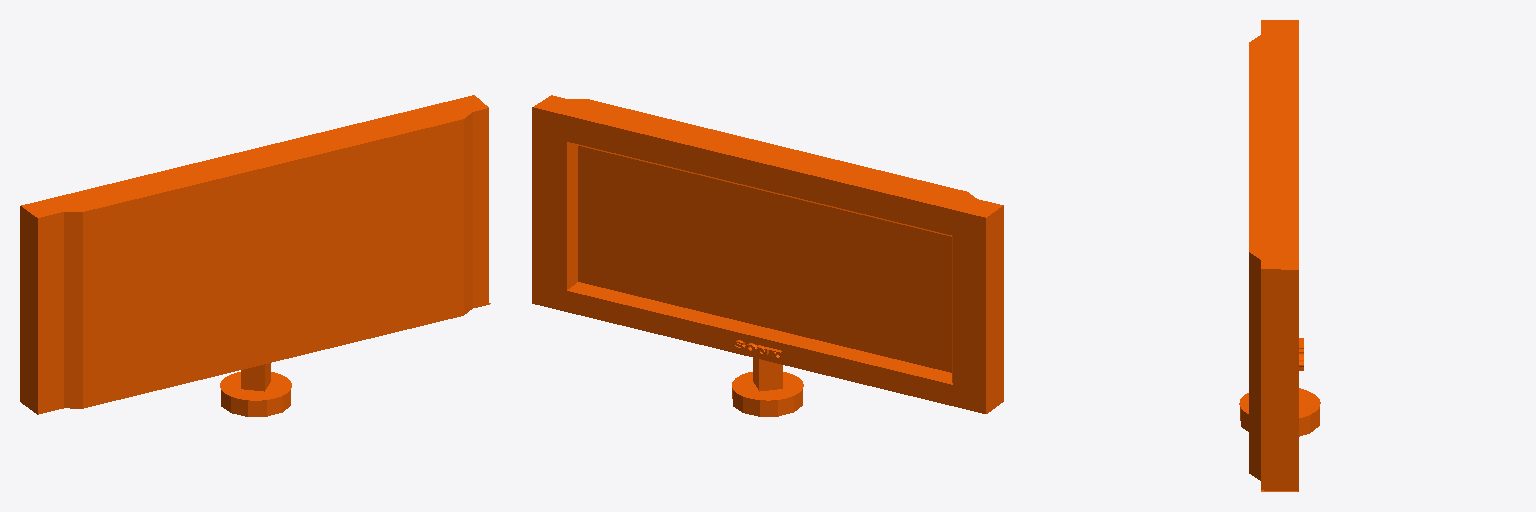
robot.urdf — TV_cb19585f960add8d8e1fe74cd4bc3:
<?xml version="1.0" ?>
<robot name="TV_cb19585f960add8d8e1fe74cd4bc3">
   <material name="obj_color">
      <color rgba="1.0 0.423529411765 0.0392156862745 1.0"/>
   </material>
   <link name="top">
      <inertial>
         <origin rpy="0.00154959066341927 0.005514096656466417 0.00692272501401738" xyz="0.001684935059811732 0.0004128127442775984 -0.004550548221433943"/>
         <mass value="1.004694436106057"/>
         <inertia ixx="0.001549593527431763" ixy="3.111584214867193e-06" ixz="2.064220754275286e-06" iyy="0.006922404363621433" iyz="2.118930780138711e-05" izz="0.005514414442849873"/>
      </inertial>
      <visual>
         <origin rpy="0 0 0" xyz="0 0 0"/>
         <geometry>
            <mesh filename="top_watertight_tiny.stl" scale="1 1 1"/>
         </geometry>
         <material name="obj_color"/>
      </visual>
      <collision>
         <origin rpy="0 0 0" xyz="0 0 0"/>
         <geometry>
            <mesh filename="top_watertight_tiny.obj" scale="1 1 1"/>
         </geometry>
      </collision>
   </link>
   <link name="bottom">
      <inertial>
         <origin rpy="1.633333333199431e-08 1.633333333199431e-08 1.633333333362855e-08" xyz="0.3464080000000008 0.3464080000000008 0.3464080000000008"/>
         <mass value="0.0009800000000000017"/>
         <inertia ixx="1.633333333253906e-08" ixy="5.447480642029219e-19" ixz="5.447480642029219e-19" iyy="1.633333333253906e-08" iyz="5.447480642029219e-19" izz="1.633333333253906e-08"/>
      </inertial>
      <visual>
         <origin rpy="0 0 0" xyz="0 0 0"/>
         <geometry>
            <mesh filename="bottom_watertight_tiny.stl" scale="1 1 1"/>
         </geometry>
         <material name="obj_color"/>
      </visual>
   </link>
   <joint name="rotation" type="revolute">
      <origin xyz="0 0 0"/>
      <axis xyz="0 0 -1"/>
      <parent link="bottom"/>
      <child link="top"/>
      <dynamics damping="1.0" friction="1.0"/>
      <limit effort="0.1" velocity="0.1" lower="0" upper="0.001"/>
   </joint>
</robot>

--- Render facts (derived) ---
3 views of the same robot in one strip: view 1: azimuth 30°, elevation 25°; view 2: azimuth 150°, elevation 25°; view 3: azimuth 270°, elevation 25° (orthographic).
Model TV_cb19585f960add8d8e1fe74cd4bc3 with 2 links and 1 joints (1 revolute), rooted at bottom, posed all joints at 0.
Links seen in each view (by area): view 1: top; view 2: top; view 3: top.
Link boxes in pixels (left/top/right/bottom): top: left=20, top=95, right=490, bottom=416; top: left=532, top=95, right=1003, bottom=416; top: left=1239, top=20, right=1320, bottom=491.
Size in the robot's own frame: 0.2785 by 0.0385 by 0.144 metres.
1 mesh visuals loaded from 2 distinct referenced files (1 binary STL); not drawn: 1 (reference not matched to a file when rendering).
